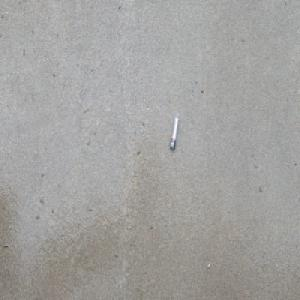Battery: (170, 116, 178, 151)
